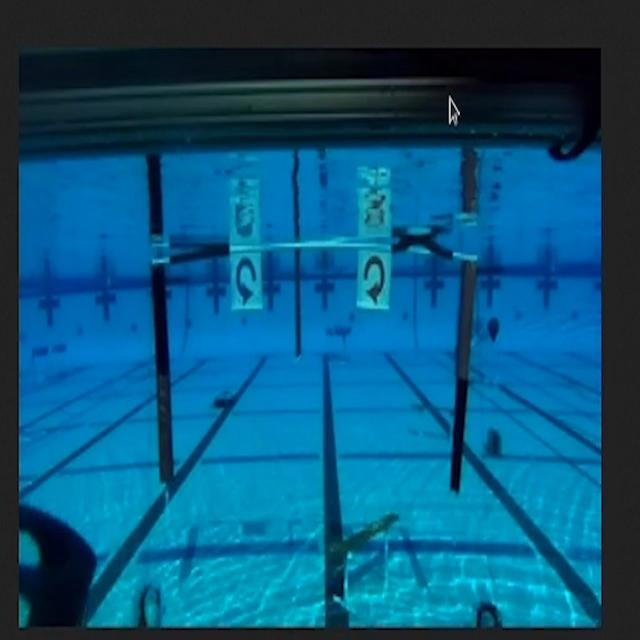Gate: (149, 225, 475, 501)
